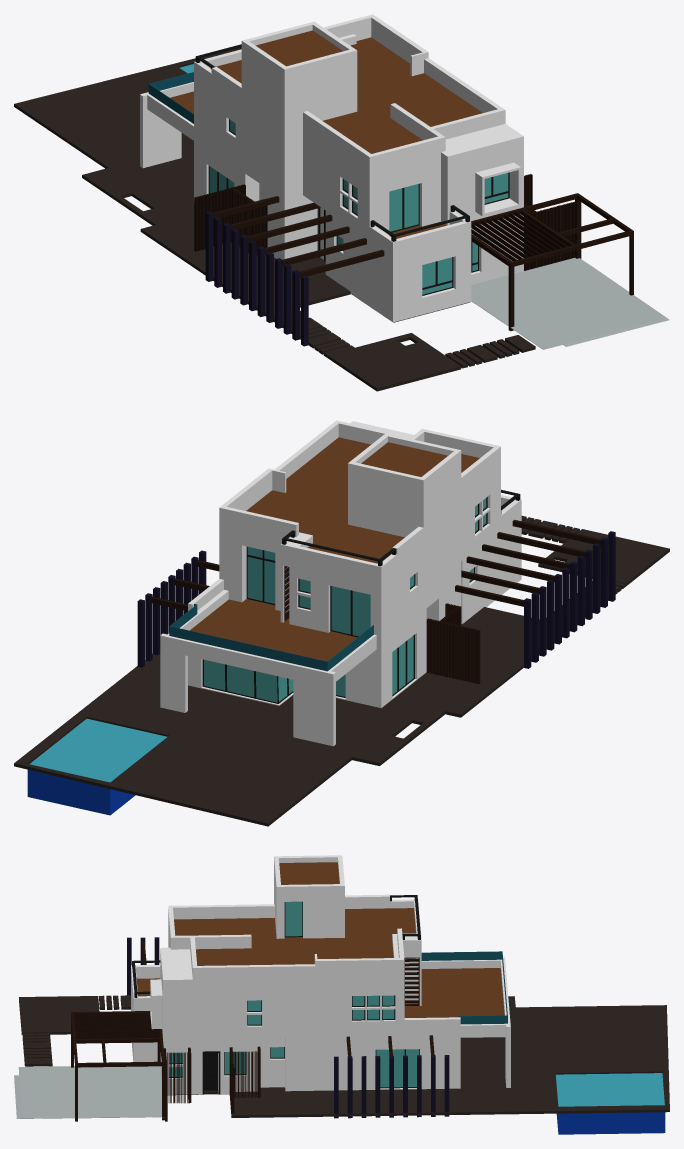
Rendered from build_23.FBX.
3 views of the same model, one above another, from view 1: azimuth 30°, elevation 25°; view 2: azimuth 150°, elevation 25°; view 3: azimuth 270°, elevation 25° (orthographic). The views are drawn at different scales.
Parts seen in each view (by area): view 1: Plane1657, Line2029227255, Plane1658, Object43148; view 2: Plane1657, Line2029227255, Plane1658, Object007, Object43146; view 3: Plane1657, Line2029227255, Plane1658, Object43148, Object007, Object43146.
Boxes of the visible parts, box(x1,y1,x2,y2) form: Plane1657: box(140, 14, 523, 322); Line2029227255: box(14, 47, 535, 391); Plane1658: box(148, 44, 633, 346); Object43148: box(471, 258, 669, 349); Plane1657: box(160, 420, 521, 746); Line2029227255: box(14, 515, 669, 826); Plane1658: box(137, 489, 615, 684); Object007: box(29, 718, 167, 782); Object43146: box(27, 769, 135, 815); Plane1657: box(131, 855, 510, 1094); Line2029227255: box(19, 995, 669, 1117); Plane1658: box(71, 895, 507, 1121); Object43148: box(14, 1066, 164, 1118); Object007: box(556, 1073, 664, 1106); Object43146: box(556, 1112, 665, 1134).
Size of the model in its own units: 1455 by 1032 by 3182.
